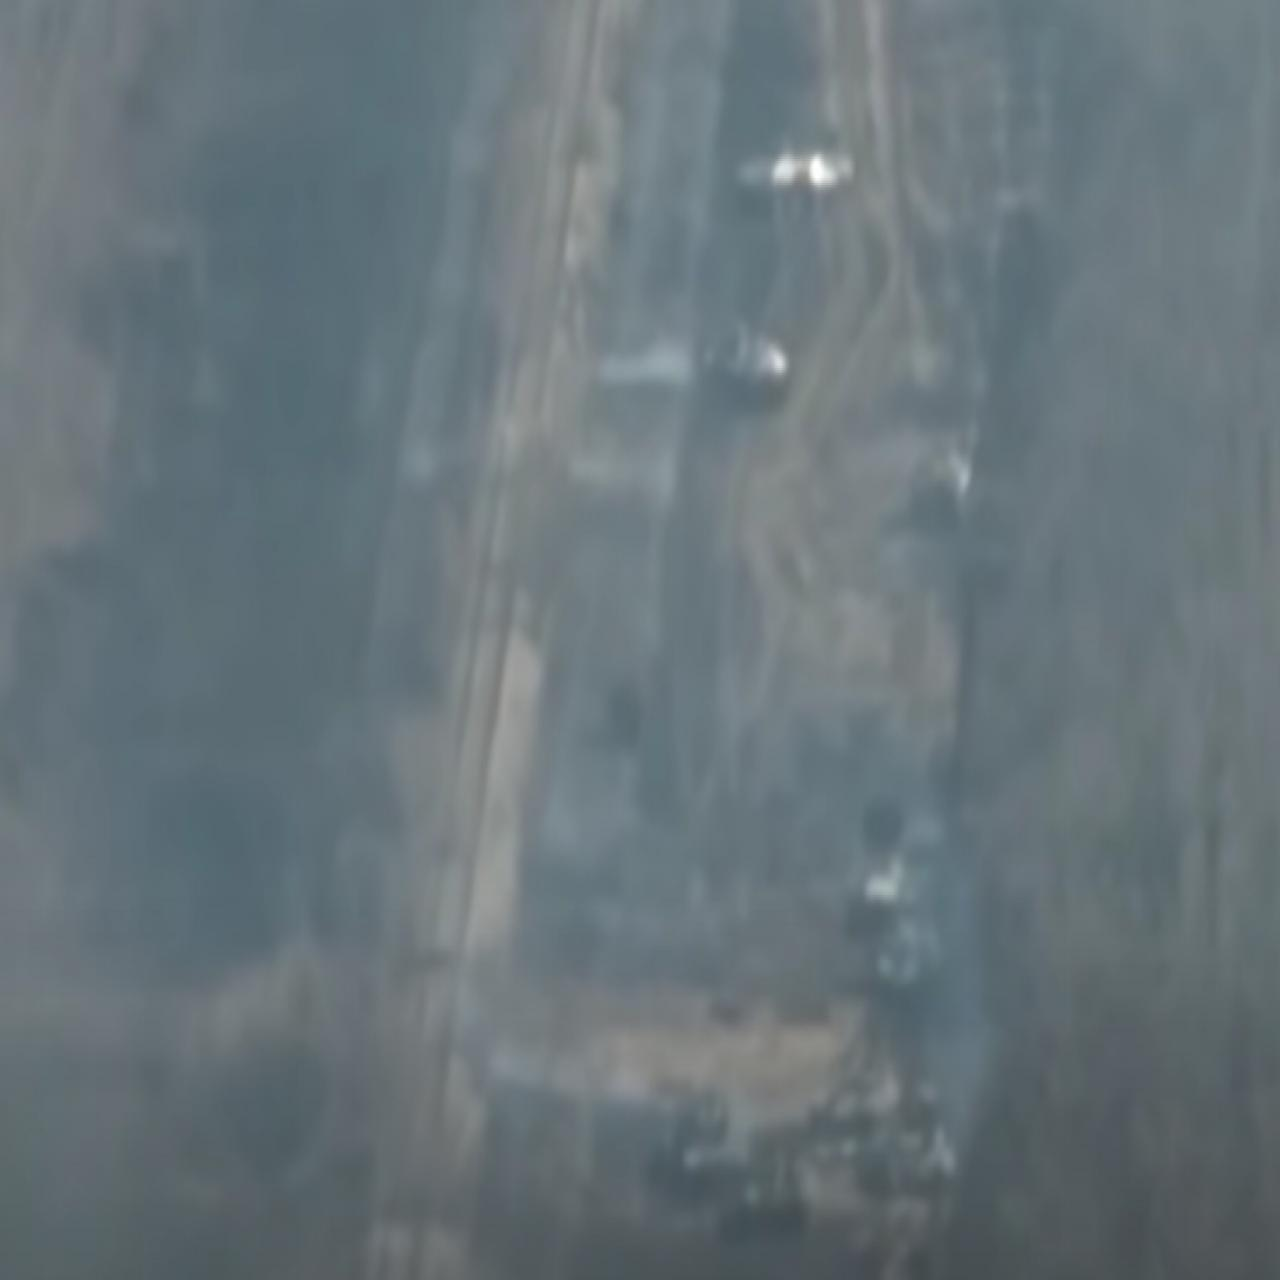MIL_Veh: (682, 319, 798, 408), (651, 1096, 753, 1179), (726, 1160, 813, 1231), (809, 1075, 880, 1132)
